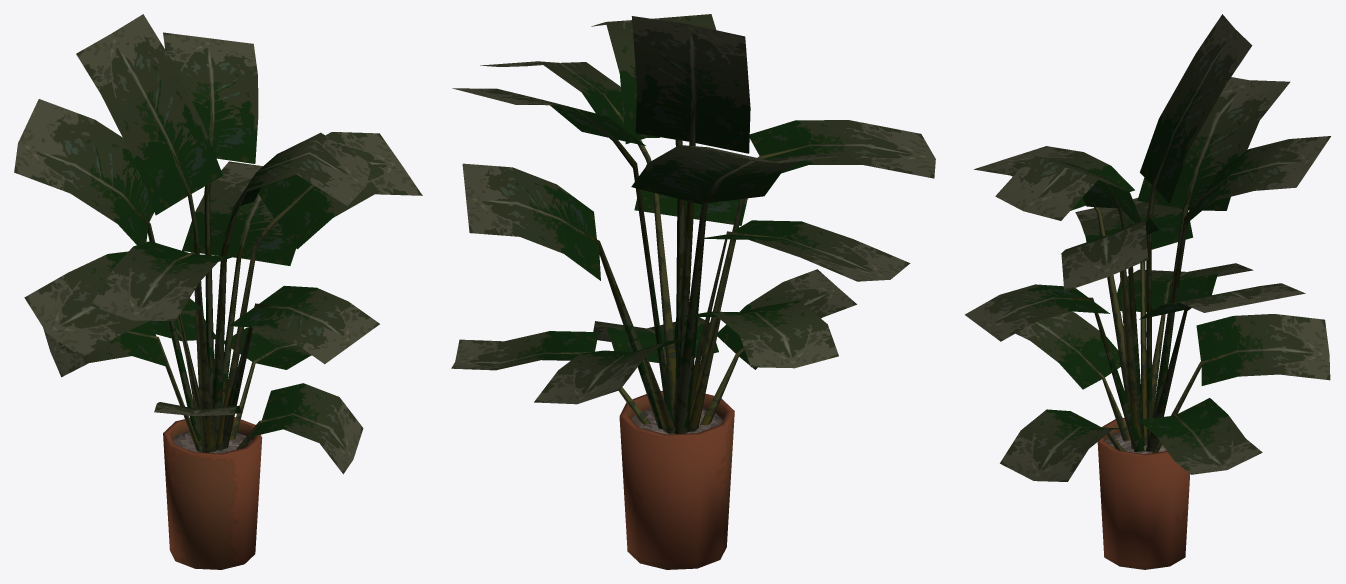
The model's file is Furniture_foliageplant_04b_LOD1.fbx.
3 renders of one model, left to right at view 1: azimuth 30°, elevation 25°; view 2: azimuth 150°, elevation 25°; view 3: azimuth 270°, elevation 25°, orthographic. The views are drawn at different scales.
Visible parts, largest first — view 1: F_foliageplant_04b_m2, F_foliageplant_04b_m1; view 2: F_foliageplant_04b_m2, F_foliageplant_04b_m1; view 3: F_foliageplant_04b_m2, F_foliageplant_04b_m1.
Boxes of the visible parts, x1=… form: F_foliageplant_04b_m2: x1=14, y1=14, x2=422, y2=474; F_foliageplant_04b_m1: x1=163, y1=417, x2=262, y2=569; F_foliageplant_04b_m2: x1=451, y1=14, x2=935, y2=433; F_foliageplant_04b_m1: x1=619, y1=391, x2=734, y2=569; F_foliageplant_04b_m2: x1=964, y1=14, x2=1330, y2=481; F_foliageplant_04b_m1: x1=1097, y1=417, x2=1190, y2=569.
Size of the model in its own units: 0.8388 by 1.17 by 0.7776.
Materials: 2 (2 with a texture image).
